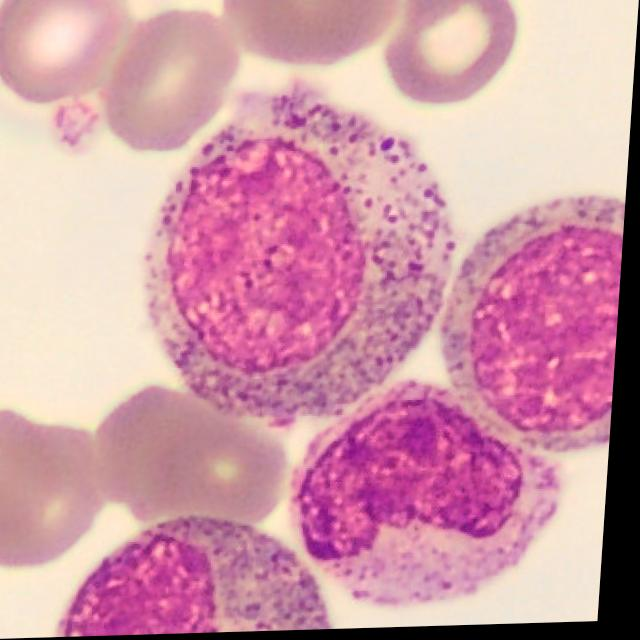Metamielocito: (300, 386, 565, 607)
Mielocito: (151, 93, 456, 421)
